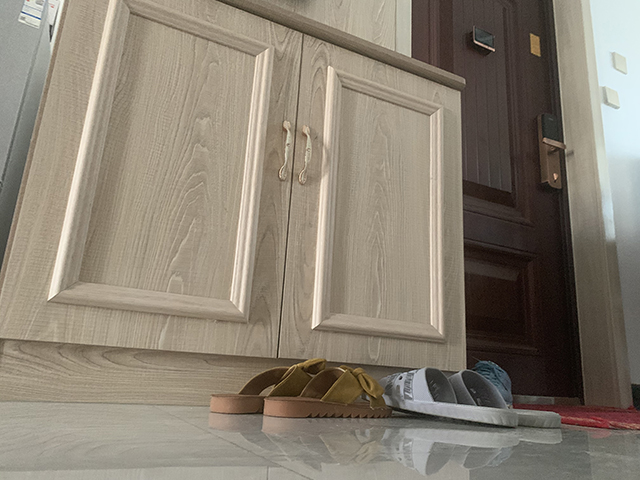cabinet: (1, 1, 469, 408)
carpet: (513, 402, 640, 432)
slippers: (385, 360, 519, 426), (261, 362, 392, 419), (452, 371, 562, 424), (205, 365, 309, 413)
